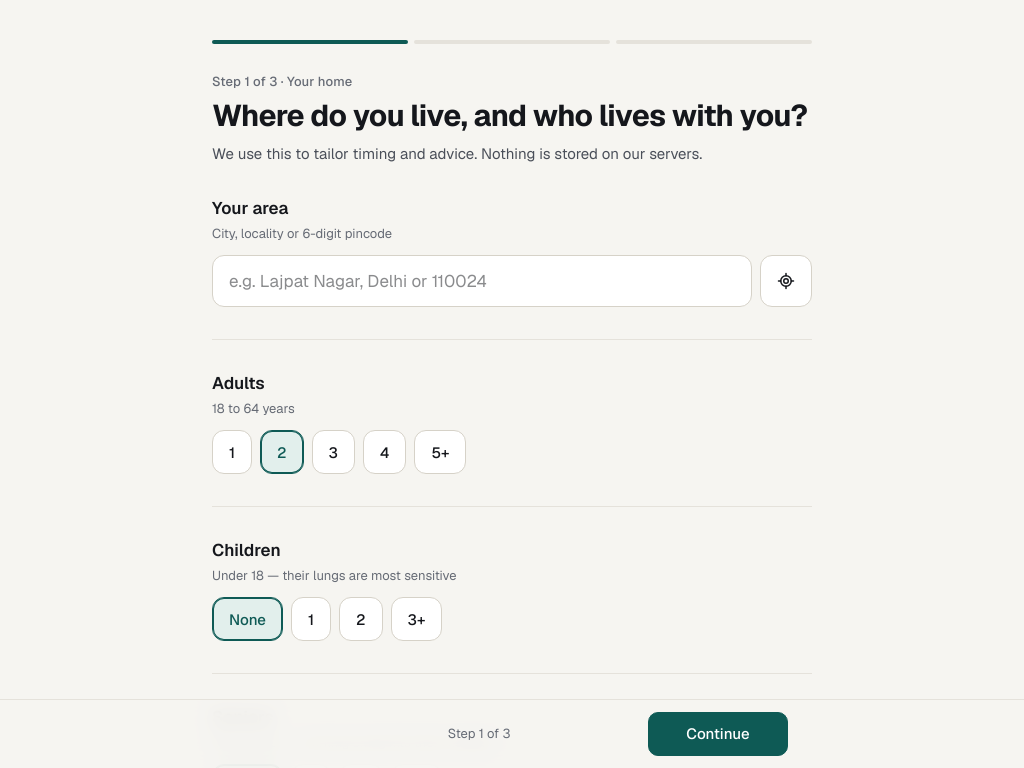
Test: Accessibility - OnboardingForm (3 Steps, Progress, Labels & Keyboard) › validates area input and outlines in red when empty
Note: Clear area input to trigger validation error
Clear the field labelled "Your area" at (482, 281), box [212,255,752,307]
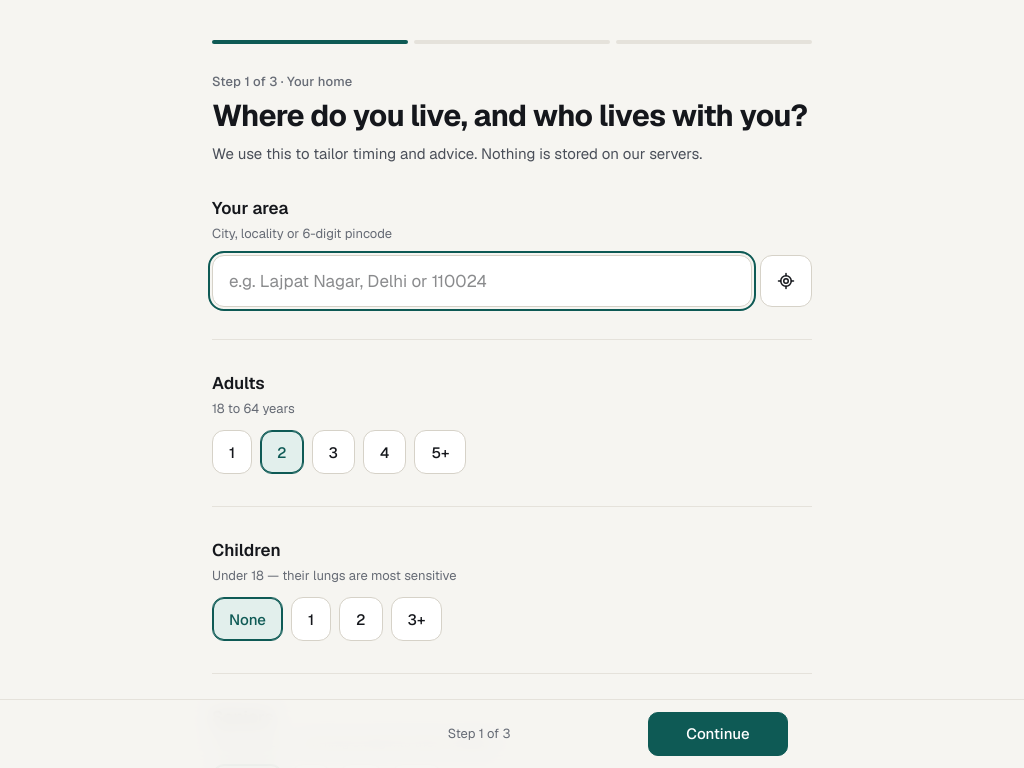
Click the button "Continue" at (718, 734), box [648,712,788,756]
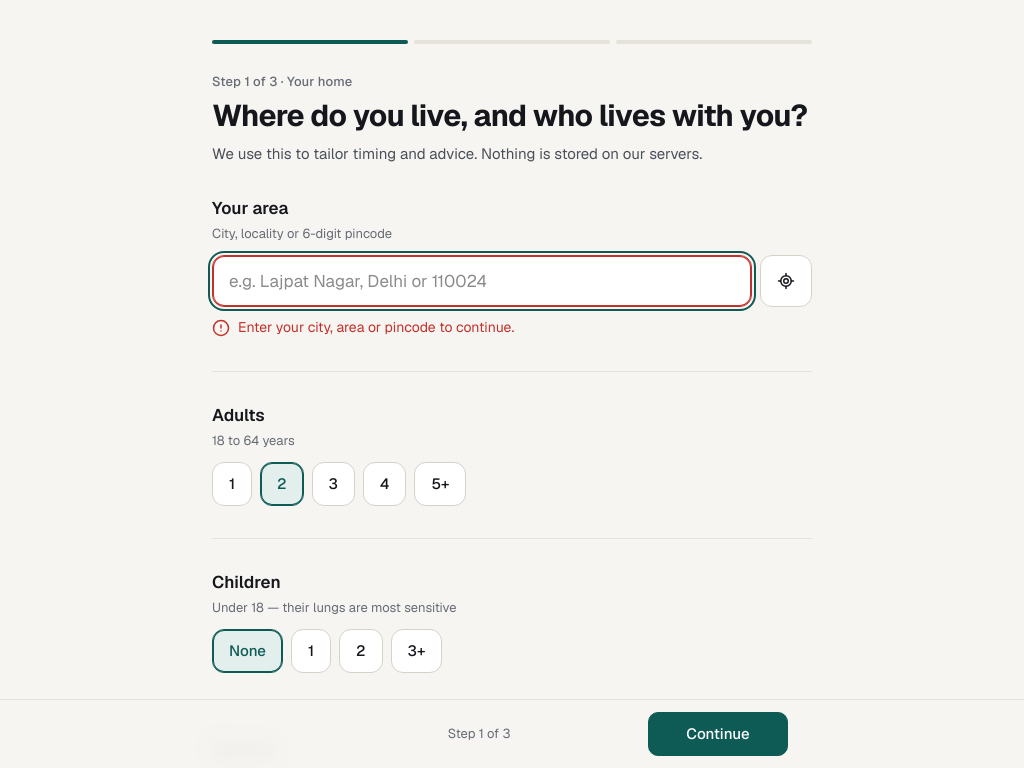
Check: the text "Enter your city, area or pincode to continue." is shown, box [212,318,514,337]
Note: Type valid place to clear error
Type "Dwarka" into the field labelled "Your area" at (482, 281), box [212,255,752,307]
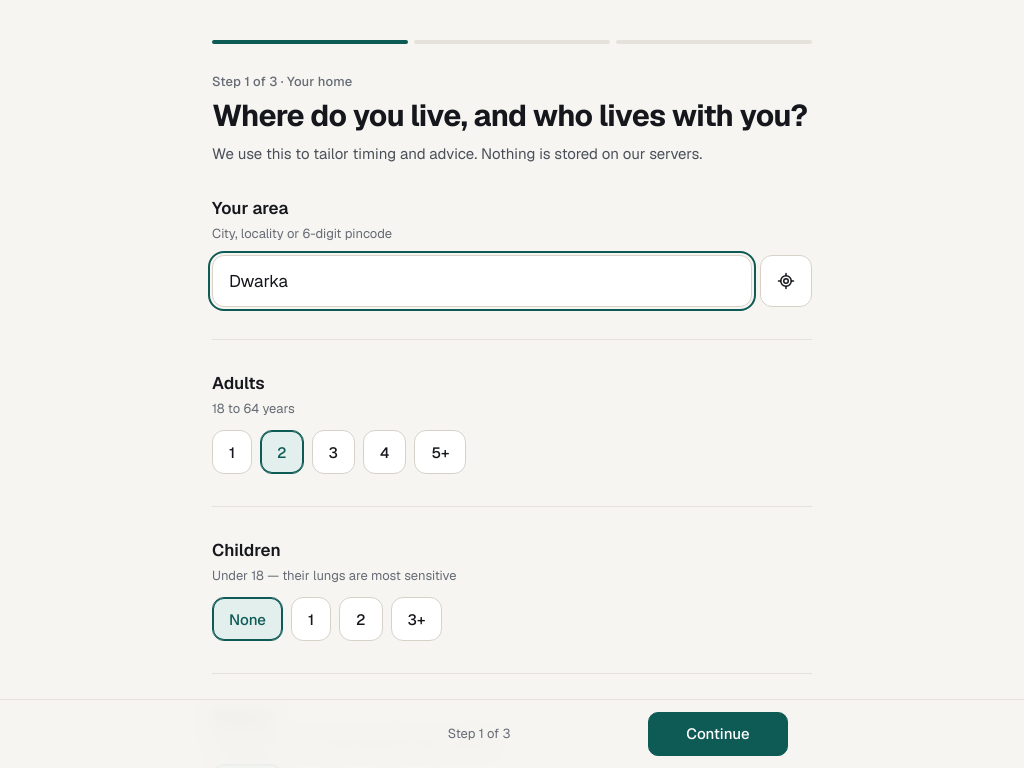
Check: the field labelled "Your area" does not have attribute aria-invalid, box [212,255,752,307]
